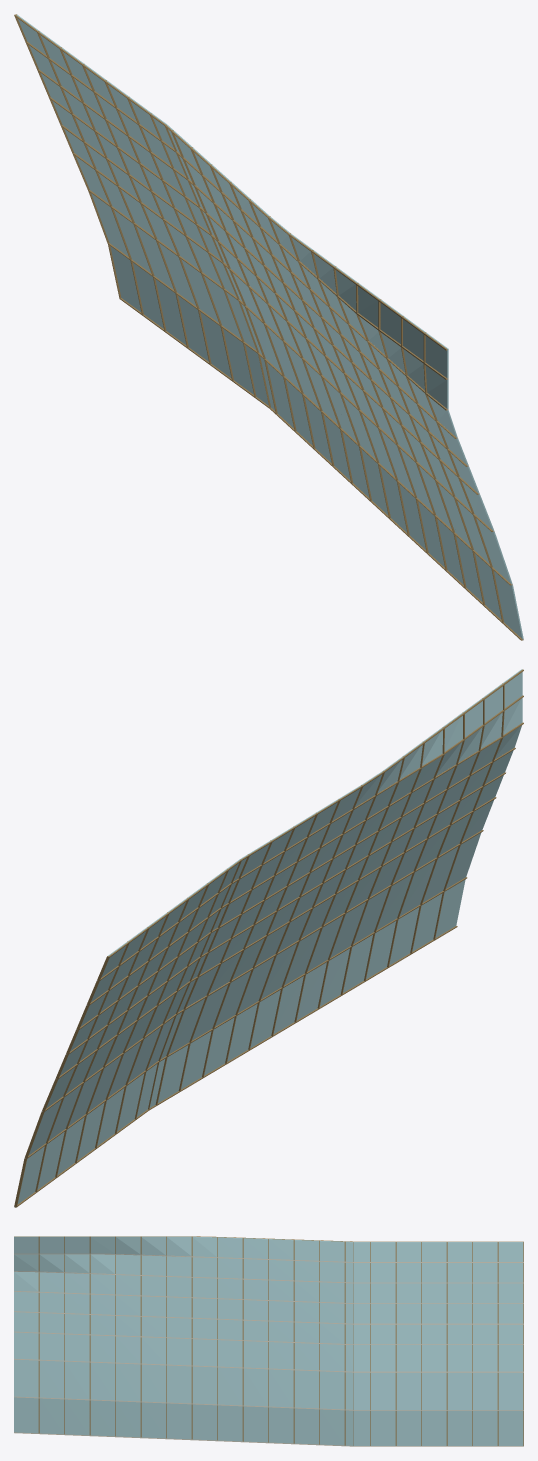
The model's file is G7_Completion_R003_Body_1_06.glb.
The picture shows the model from 3 angles, top to bottom: view 1: azimuth 30°, elevation 25°; view 2: azimuth 150°, elevation 25°; view 3: azimuth 270°, elevation 25°; orthographic projection. The views are drawn at different scales.
Parts seen in each view (by area): view 1: Body_1_06_G7C3_glass_solid_skin, Body_1_06_G7C3_metal_solid_frame; view 2: Body_1_06_G7C3_glass_solid_skin, Body_1_06_G7C3_metal_solid_frame; view 3: Body_1_06_G7C3_glass_solid_skin, Body_1_06_G7C3_metal_solid_skin, Body_1_06_G7C3_shell_solid_skin, Body_1_06_G7C3_metal_solid_frame.
Part boxes in pixels (x1,y1,x2,y2): Body_1_06_G7C3_glass_solid_skin: [16, 14, 523, 639]; Body_1_06_G7C3_metal_solid_frame: [14, 14, 522, 640]; Body_1_06_G7C3_glass_solid_skin: [17, 669, 522, 1204]; Body_1_06_G7C3_metal_solid_frame: [15, 669, 523, 1207]; Body_1_06_G7C3_glass_solid_skin: [14, 1236, 523, 1445]; Body_1_06_G7C3_metal_solid_skin: [38, 1236, 523, 1445]; Body_1_06_G7C3_shell_solid_skin: [14, 1253, 523, 1446]; Body_1_06_G7C3_metal_solid_frame: [14, 1236, 523, 1241].
Bounding box in the file's own units: 19.54 × 45.5 × 120.
3 materials, 2 textured.
